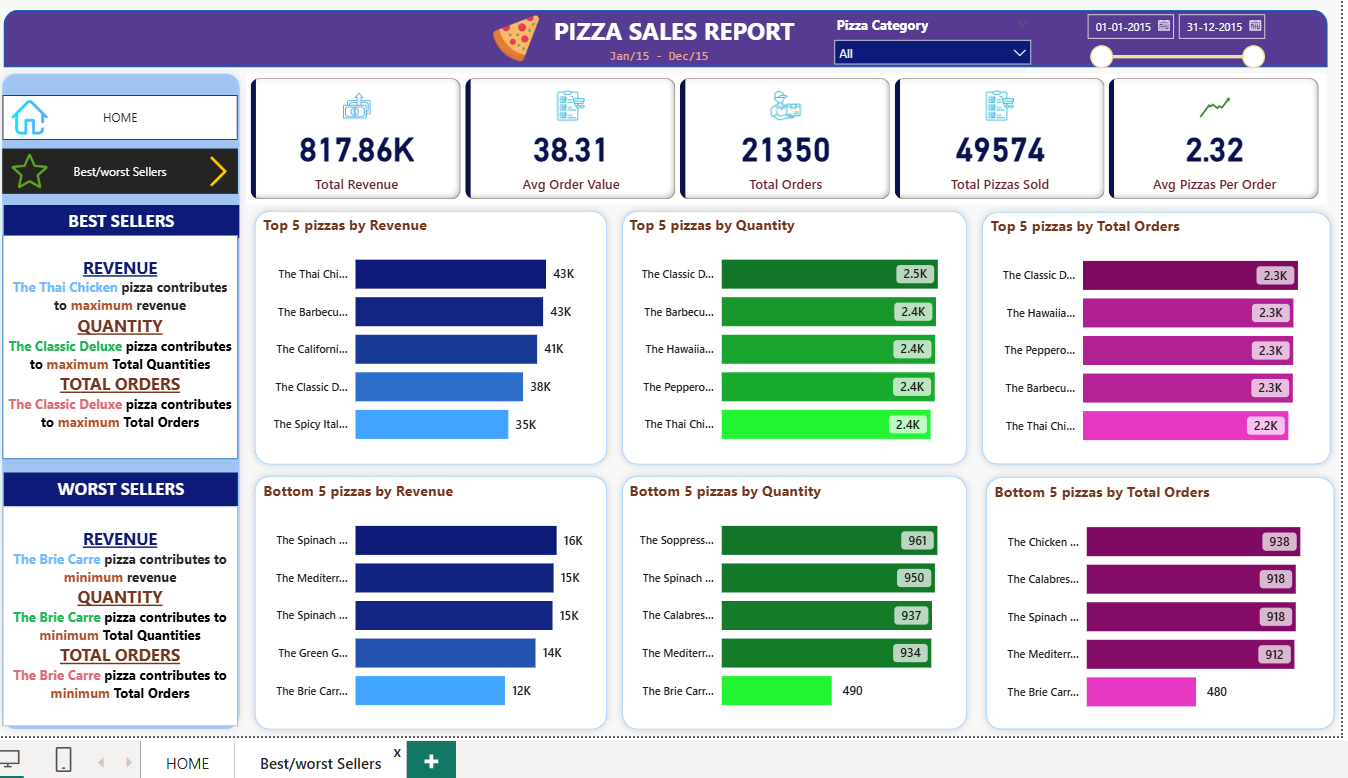

The page's visual inventory and layout, read from the dashboard file:
{"tool":"powerbi","page":{"name":"Best/worst Sellers","canvas":[1500,820],"ordinal":1},"visuals":[{"type":"shape","box":[0,73.7,280.5,746.6],"z":0},{"type":"cardVisual","fields":{"Data":["pizza_sales.Total Revenue","pizza_sales.Avg Order Value","pizza_sales.Total Orders","pizza_sales.Total Pizzas Sold","pizza_sales.Avg Pizzas Per Order"]},"box":[280.5,82.2,1204.2,145.9],"z":1000},{"type":"shape","box":[9.9,11.3,1474.8,63.8],"z":2000},{"type":"textbox","box":[613.4,11.3,287.6,52.4],"z":3000},{"type":"textbox","box":[674.4,46.8,131.8,35.4],"z":4000},{"type":"image","box":[546.9,11.3,66.6,63.8],"z":5000},{"type":"shape","box":[281.2,227.5,408.7,298.6],"z":6000},{"type":"textbox","box":[9.9,228.1,262.1,36.8],"z":16000},{"type":"textbox","box":[8.7,262.3,262.3,249.3],"z":17000},{"type":"textbox","box":[10.1,526.1,260.9,37.7],"z":18000},{"type":"textbox","box":[8.7,563.8,262.3,244.9],"z":19000},{"type":"slicer","fields":{"Values":["pizza_sales.pizza_category"]},"box":[925.1,12.8,239.4,62.3],"z":20000},{"type":"slicer","fields":{"Values":["pizza_sales.order_date"]},"box":[1205,6.2,218.8,75],"z":21000},{"type":"shape","box":[691.3,227.5,400,298.6],"z":21001},{"type":"shape","box":[1091.3,229,404.4,297.1],"z":21002},{"type":"shape","box":[281.2,521.7,408.7,298.6],"z":21003},{"type":"shape","box":[691.3,521.7,400,298.6],"z":21004},{"type":"shape","box":[1095.7,523.2,404.4,297.1],"z":21005},{"type":"barChart","title":"Top 5 pizzas by Revenue","fields":{"Category":["pizza_sales.pizza_name"],"Y":["pizza_sales.Total Revenue"]},"box":[294.2,237.7,379.7,273.9],"z":21006},{"type":"barChart","title":"Bottom 5 pizzas by Revenue","fields":{"Category":["pizza_sales.pizza_name"],"Y":["pizza_sales.Total Revenue"]},"box":[294.2,534.8,379.7,273.9],"z":21007},{"type":"barChart","title":"Top 5 pizzas by Quantity","fields":{"Category":["pizza_sales.pizza_name"],"Y":["pizza_sales.Total Pizzas Sold"]},"box":[701.5,237.7,379.7,273.9],"z":21008},{"type":"barChart","title":"Bottom 5 pizzas by Quantity","fields":{"Category":["pizza_sales.pizza_name"],"Y":["pizza_sales.Total Pizzas Sold"]},"box":[701.5,534.8,379.7,273.9],"z":21009},{"type":"barChart","title":"Top 5 pizzas by Total Orders","fields":{"Category":["pizza_sales.pizza_name"],"Y":["pizza_sales.Total Orders"]},"box":[1104.3,239.1,379.7,273.9],"z":21010},{"type":"barChart","title":"Bottom 5 pizzas by Total Orders","fields":{"Category":["pizza_sales.pizza_name"],"Y":["pizza_sales.Total Orders"]},"box":[1108.7,536.2,379.7,273.9],"z":21011},{"type":"pageNavigator","box":[8.6,165.7,262.9,50],"z":21012},{"type":"pageNavigator","box":[8.6,105.7,262.9,50],"z":21013},{"type":"image","box":[227.1,165.7,44.3,50],"z":21014},{"type":"image","box":[10,105.7,57.1,50],"z":21015},{"type":"image","box":[10,165.7,57.1,50],"z":21016}]}

Visuals, with their boxes on the page's 1500x820 design canvas (x1, y1, x2, y2). These are canvas units, not pixel positions in the 1348x778 screenshot, which may show the page scaled, cropped or inside an application window:
shape: [left=0, top=74, right=280, bottom=820]
cardVisual - pizza_sales.Total Revenue x pizza_sales.Avg Order Value: [left=280, top=82, right=1485, bottom=228]
shape: [left=10, top=11, right=1485, bottom=75]
textbox: [left=613, top=11, right=901, bottom=64]
textbox: [left=674, top=47, right=806, bottom=82]
image: [left=547, top=11, right=614, bottom=75]
shape: [left=281, top=228, right=690, bottom=526]
textbox: [left=10, top=228, right=272, bottom=265]
textbox: [left=9, top=262, right=271, bottom=512]
textbox: [left=10, top=526, right=271, bottom=564]
textbox: [left=9, top=564, right=271, bottom=809]
slicer - pizza_sales.pizza_category: [left=925, top=13, right=1164, bottom=75]
slicer - pizza_sales.order_date: [left=1205, top=6, right=1424, bottom=81]
shape: [left=691, top=228, right=1091, bottom=526]
shape: [left=1091, top=229, right=1496, bottom=526]
shape: [left=281, top=522, right=690, bottom=820]
shape: [left=691, top=522, right=1091, bottom=820]
shape: [left=1096, top=523, right=1500, bottom=820]
"Top 5 pizzas by Revenue" barChart: [left=294, top=238, right=674, bottom=512]
"Bottom 5 pizzas by Revenue" barChart: [left=294, top=535, right=674, bottom=809]
"Top 5 pizzas by Quantity" barChart: [left=702, top=238, right=1081, bottom=512]
"Bottom 5 pizzas by Quantity" barChart: [left=702, top=535, right=1081, bottom=809]
"Top 5 pizzas by Total Orders" barChart: [left=1104, top=239, right=1484, bottom=513]
"Bottom 5 pizzas by Total Orders" barChart: [left=1109, top=536, right=1488, bottom=810]
pageNavigator: [left=9, top=166, right=272, bottom=216]
pageNavigator: [left=9, top=106, right=272, bottom=156]
image: [left=227, top=166, right=271, bottom=216]
image: [left=10, top=106, right=67, bottom=156]
image: [left=10, top=166, right=67, bottom=216]
